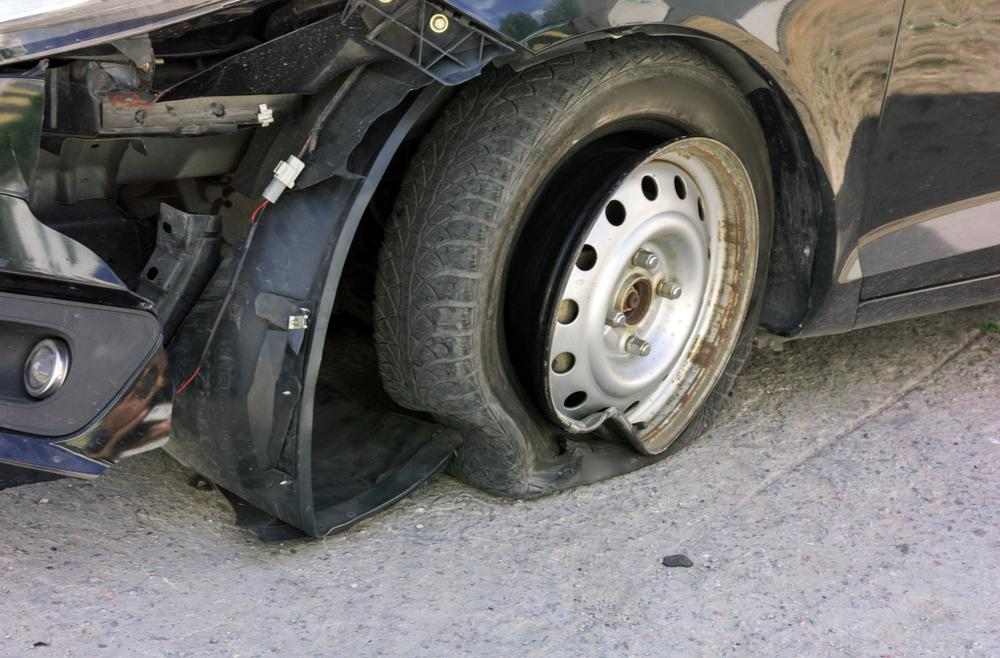tire flat: (379, 38, 775, 500)
